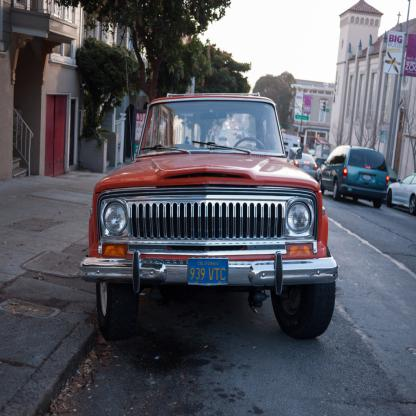Car: (79, 92, 339, 342), (320, 145, 389, 207), (387, 173, 415, 215), (293, 153, 318, 178), (389, 169, 398, 184)
